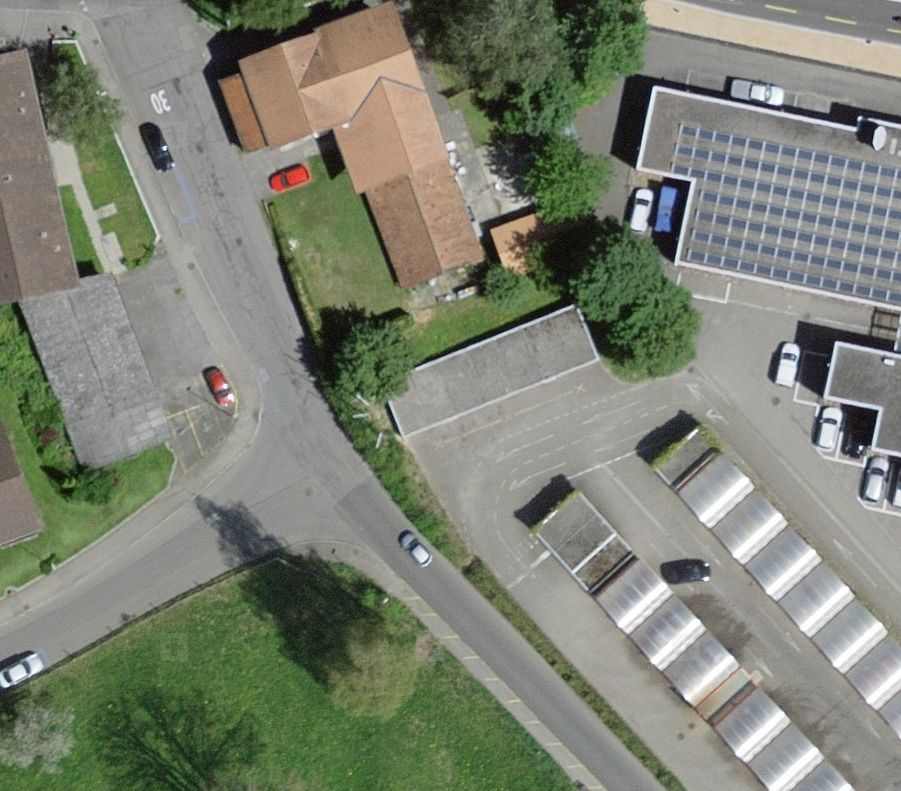solar: (668, 123, 901, 307)
